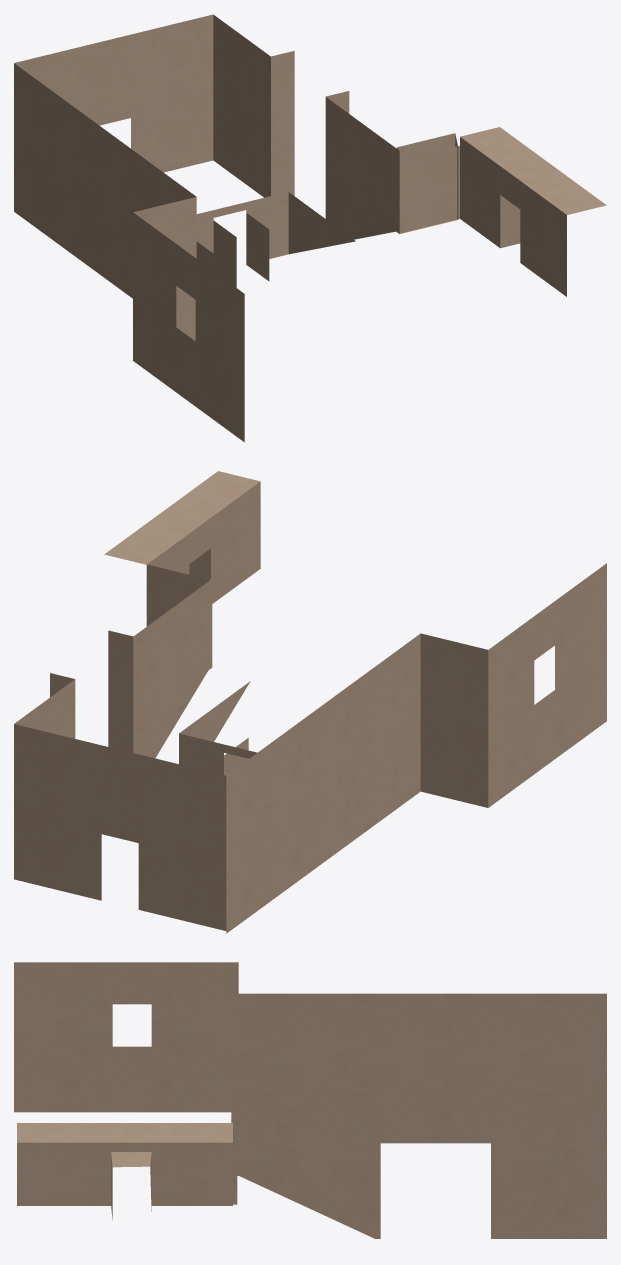
File: Main.fbx
3 views of the same model, one above another, from view 1: azimuth 30°, elevation 25°; view 2: azimuth 150°, elevation 25°; view 3: azimuth 270°, elevation 25° (orthographic). The views are drawn at different scales.
Visible parts, largest first — view 1: Main; view 2: Main; view 3: Main.
Boxes of the visible parts, x1,y1,x2,y2 form: Main: [14, 14, 606, 442]; Main: [14, 471, 606, 933]; Main: [14, 962, 606, 1238].
Size of the model in its own units: 7300 by 2875 by 10225.
